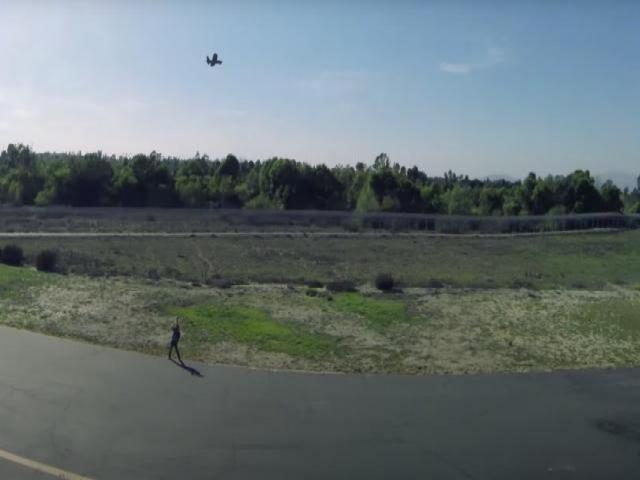iha: (197, 50, 227, 71)
